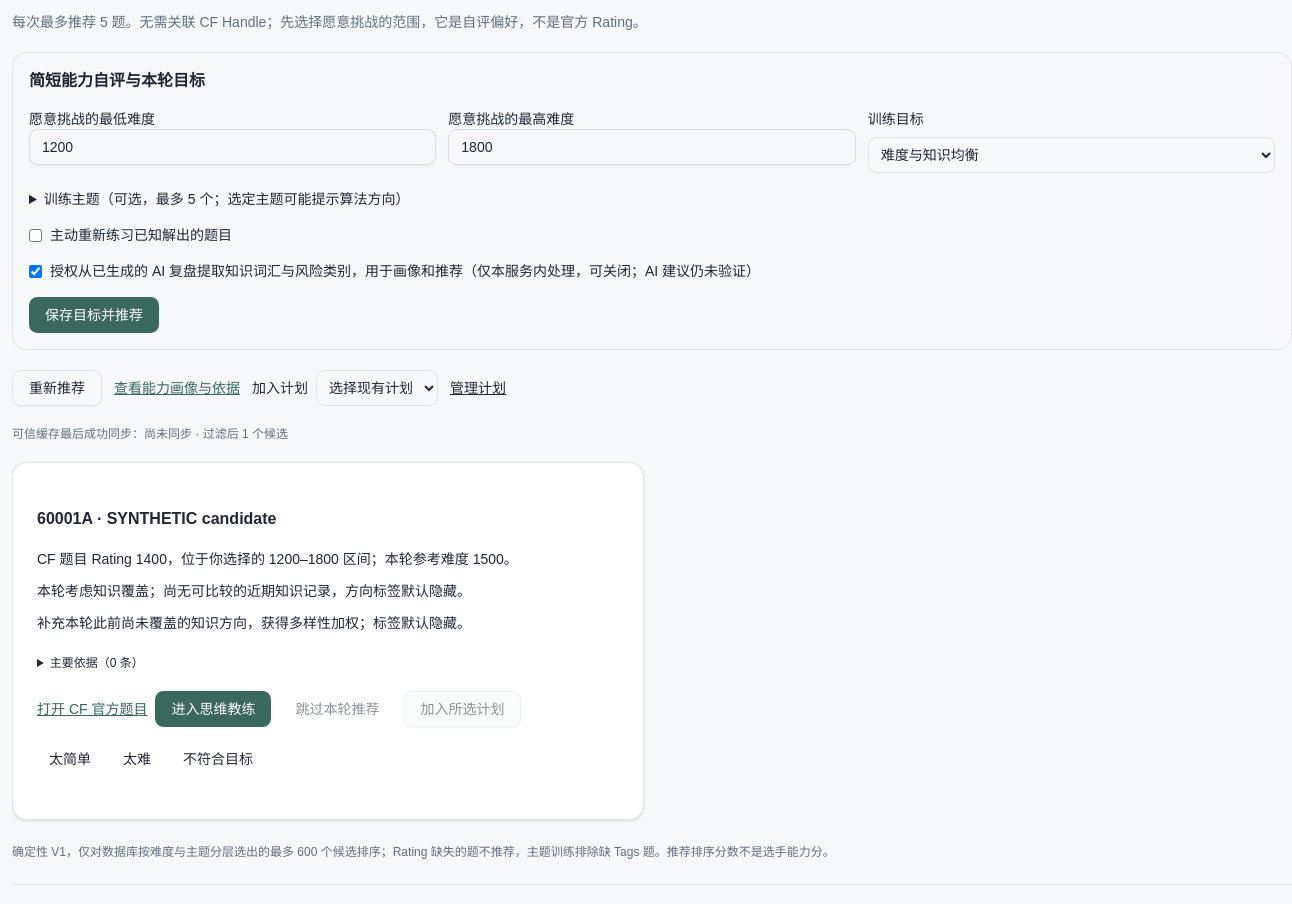
Test: keeps acknowledged-save feedback when candidate refresh fails; read recovery never saves again
Expected: the button "保存目标并推荐" is enabled, [29, 297, 159, 333]
Replace the text in the number field labelled "愿意挑战的最低难度" with "1300": coordinates (233, 147) [29, 129, 436, 165]
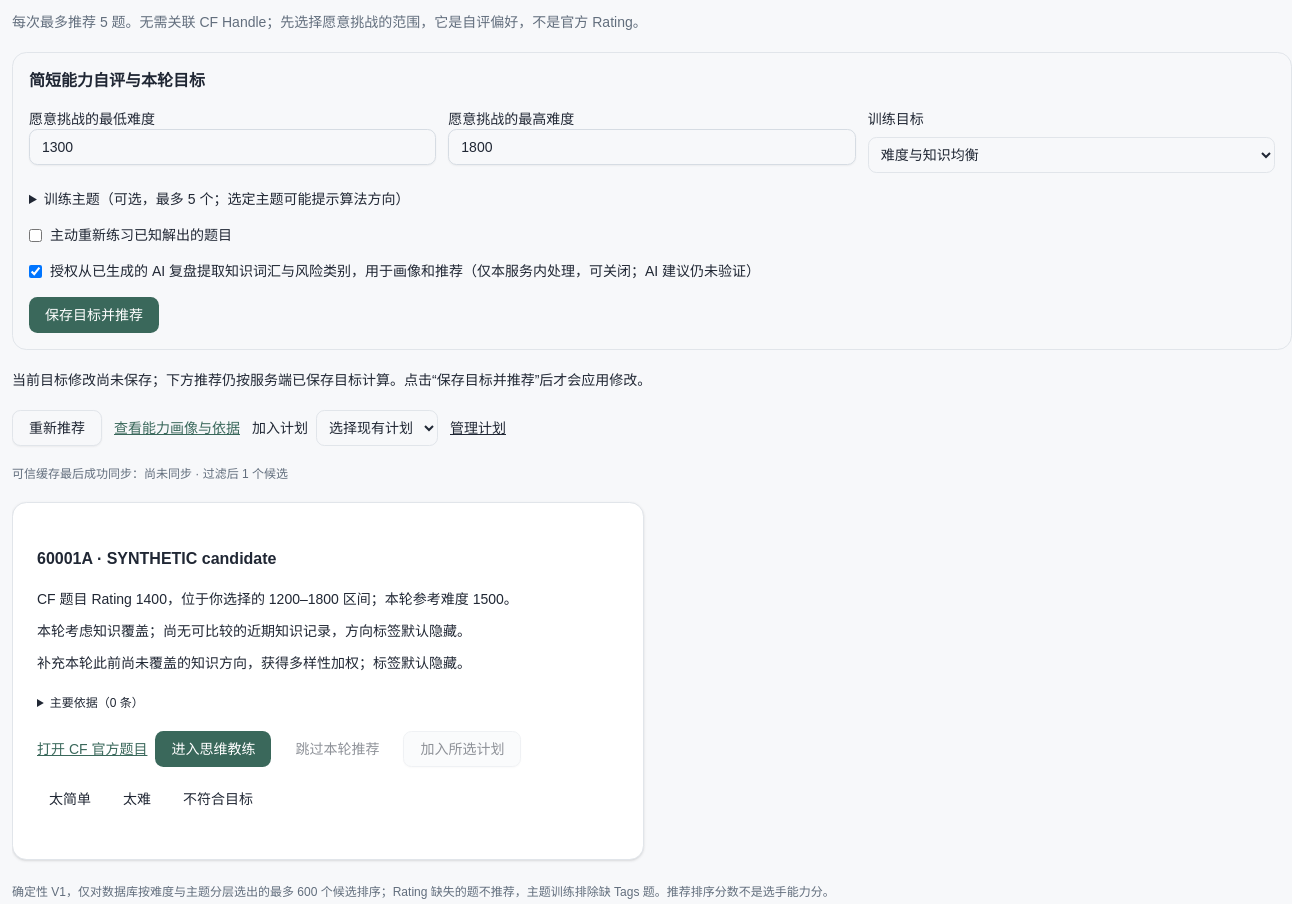
Click the button "保存目标并推荐": coordinates (94, 315) [29, 297, 159, 333]
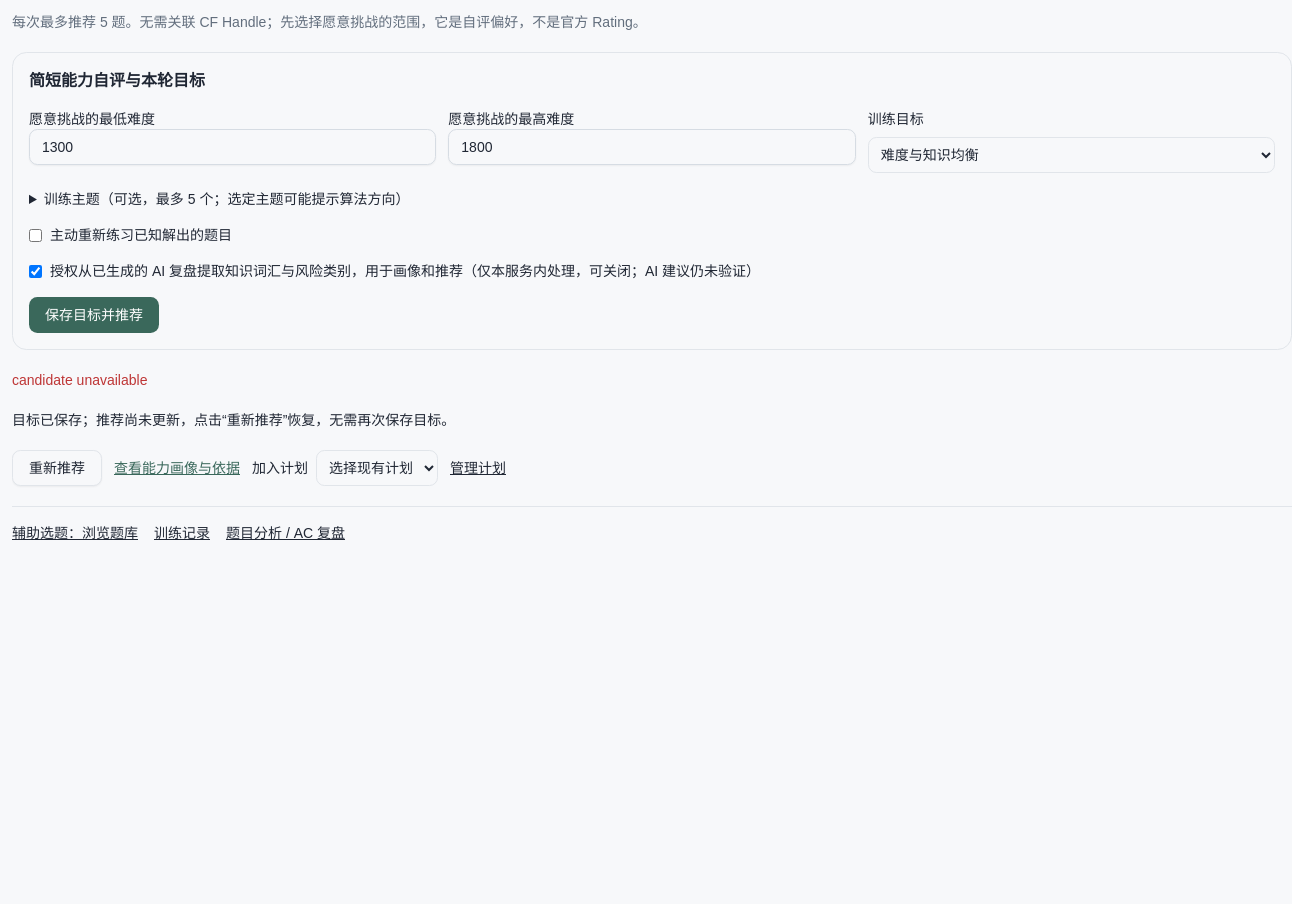
Expected: the text "candidate unavailable" is shown, [12, 372, 148, 388]
Expected: the heading "60001A · SYNTHETIC candidate" is gone
Expected: the text "目标已保存；推荐尚未更新，点击“重新推荐”恢复，无需再次保存目标。" is shown, [12, 412, 455, 428]
Click the button "重新推荐": coordinates (57, 468) [12, 450, 102, 486]
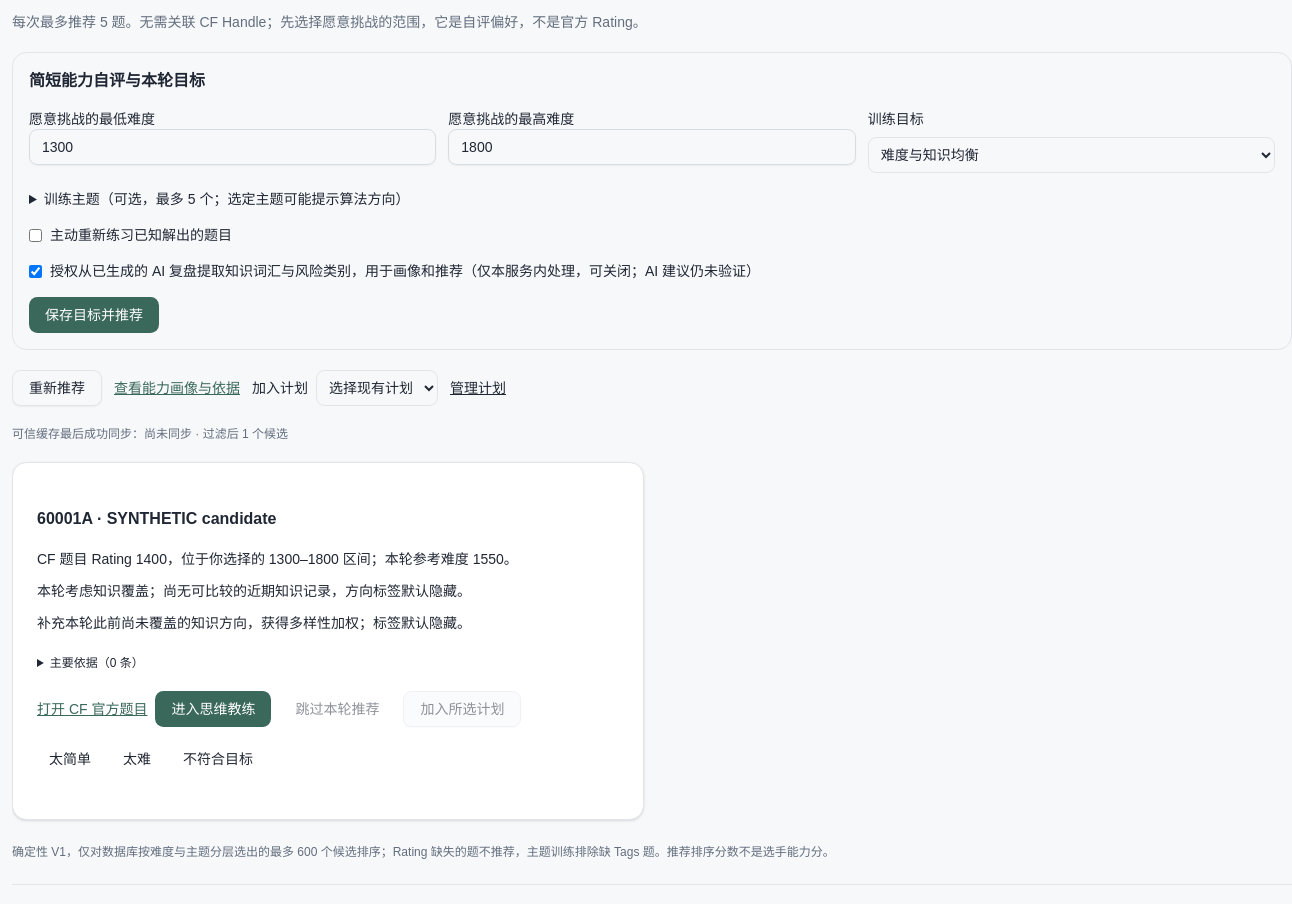
Expected: the heading "60001A · SYNTHETIC candidate" is shown, [37, 510, 276, 527]
